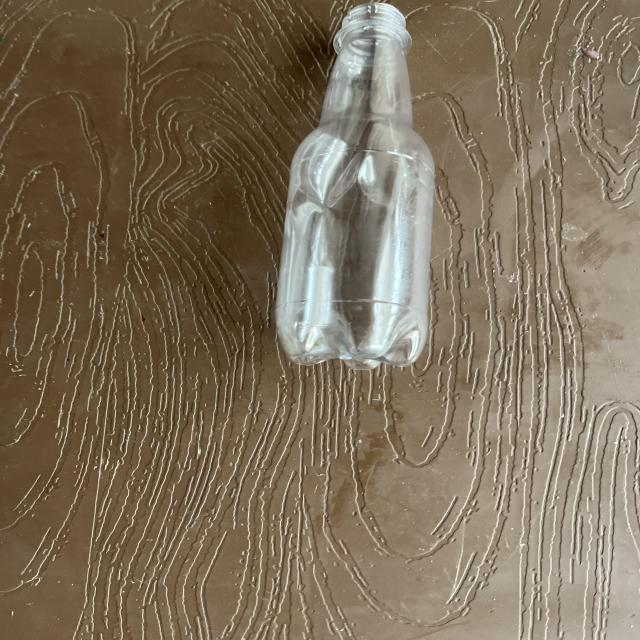PET_ClearBottle: (263, 2, 440, 413)
